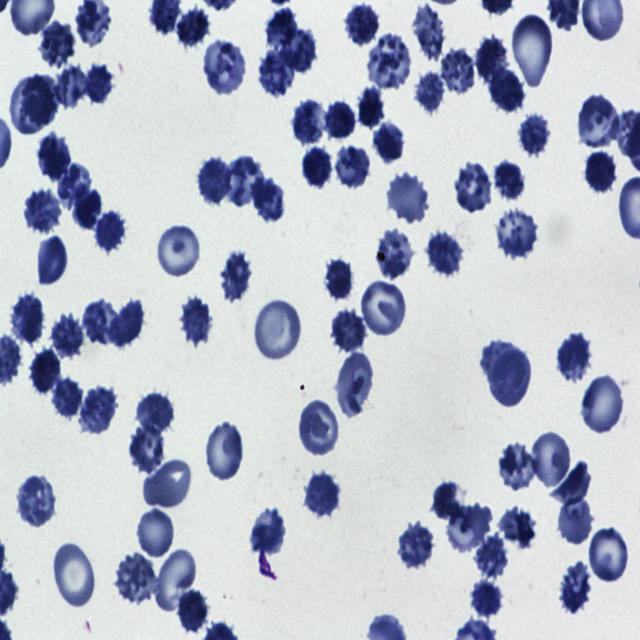red blood cell: (509, 12, 555, 90), (253, 298, 303, 362), (51, 541, 97, 610), (152, 544, 194, 615), (154, 220, 202, 280), (360, 278, 408, 337), (9, 75, 57, 134), (581, 373, 626, 435), (530, 428, 573, 491), (365, 34, 413, 90), (487, 346, 532, 405), (143, 456, 193, 509), (335, 351, 374, 418), (202, 39, 247, 96), (297, 400, 340, 458), (578, 91, 620, 150), (204, 420, 243, 483), (386, 168, 429, 225), (114, 551, 160, 604), (588, 526, 630, 584), (446, 499, 490, 554), (496, 204, 540, 258), (555, 330, 595, 385), (220, 157, 263, 208), (375, 226, 415, 280), (16, 474, 56, 527), (498, 441, 541, 490), (249, 504, 288, 558), (138, 504, 178, 556), (454, 161, 493, 214), (9, 292, 47, 346), (80, 298, 121, 348), (218, 249, 255, 304), (136, 388, 176, 438), (398, 520, 438, 569), (292, 99, 331, 149), (413, 4, 446, 62), (196, 156, 232, 208), (304, 470, 342, 519), (584, 147, 622, 196), (276, 28, 317, 73), (77, 387, 116, 434), (258, 48, 296, 96), (558, 496, 594, 546), (488, 67, 528, 112), (334, 142, 371, 190), (34, 235, 68, 287), (24, 190, 66, 232), (473, 36, 510, 83), (110, 295, 144, 346), (557, 563, 593, 611), (174, 5, 212, 50), (344, 2, 381, 48), (426, 230, 462, 277), (57, 163, 92, 210), (498, 507, 537, 549), (416, 66, 450, 114), (129, 426, 165, 471), (39, 21, 75, 65), (37, 138, 71, 184), (54, 63, 88, 109), (324, 97, 358, 142), (441, 48, 474, 94), (179, 296, 211, 343), (94, 209, 127, 254), (333, 306, 365, 352), (176, 591, 210, 634), (473, 536, 507, 579), (32, 348, 62, 396), (252, 179, 285, 220), (324, 256, 354, 301), (52, 377, 84, 419), (372, 119, 403, 162), (52, 314, 82, 358), (470, 580, 503, 620), (520, 110, 550, 154), (71, 190, 103, 231), (493, 160, 524, 202), (84, 63, 116, 103), (265, 8, 297, 48), (303, 145, 332, 187), (358, 86, 384, 128)
